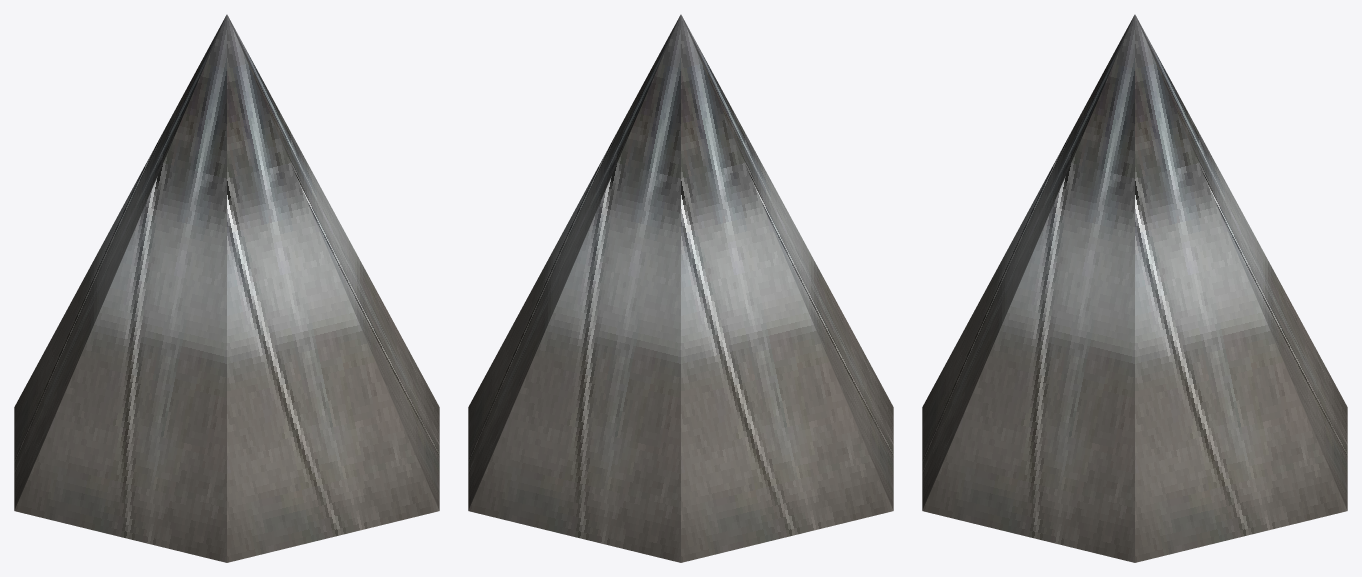
Rendered from spotlight_fixture.glb.
3 views of the same model, side by side, from view 1: azimuth 30°, elevation 25°; view 2: azimuth 150°, elevation 25°; view 3: azimuth 270°, elevation 25° (orthographic).
Visible parts, largest first — view 1: spotlight_fixture; view 2: spotlight_fixture; view 3: spotlight_fixture.
Boxes of the visible parts, bbox=[...] form: spotlight_fixture: bbox=[14, 14, 439, 562]; spotlight_fixture: bbox=[468, 14, 893, 562]; spotlight_fixture: bbox=[922, 14, 1347, 562].
Bounding box in the file's own units: 2.26 × 2.26 × 1.95.
1 material, 1 textured.
